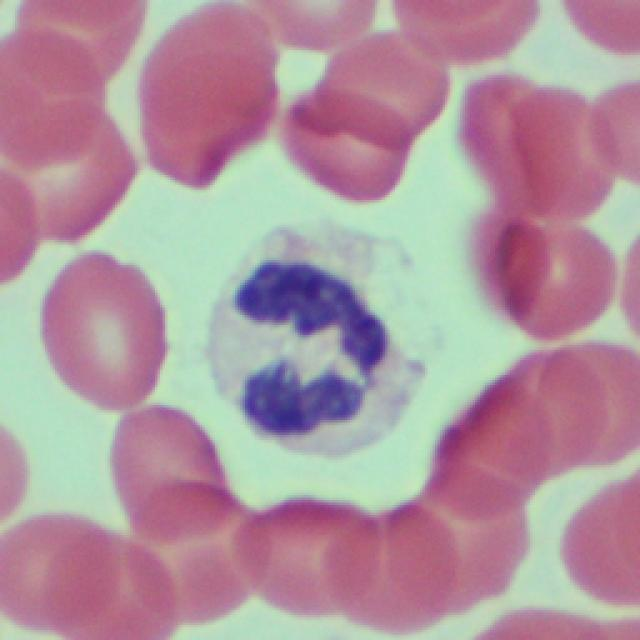RBC: (107, 390, 238, 609), (284, 28, 439, 206), (126, 0, 267, 191), (460, 66, 623, 220), (370, 481, 519, 632), (467, 195, 615, 341), (32, 250, 166, 408), (508, 322, 640, 473), (439, 368, 597, 494), (255, 481, 376, 626), (0, 504, 106, 632), (392, 0, 546, 70), (559, 480, 640, 611), (16, 0, 147, 75), (245, 0, 381, 50), (0, 146, 43, 292)
WBC: (211, 221, 434, 477)
